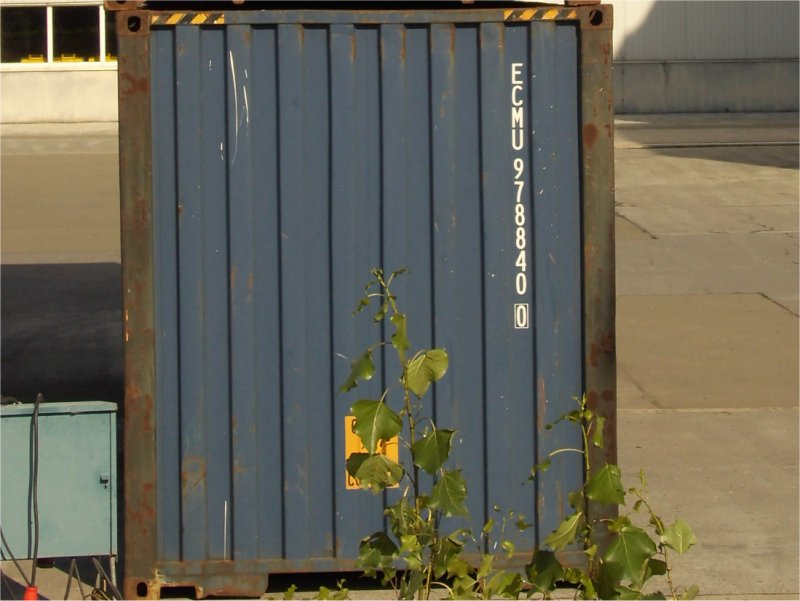container_no_door: (112, 8, 627, 595)
